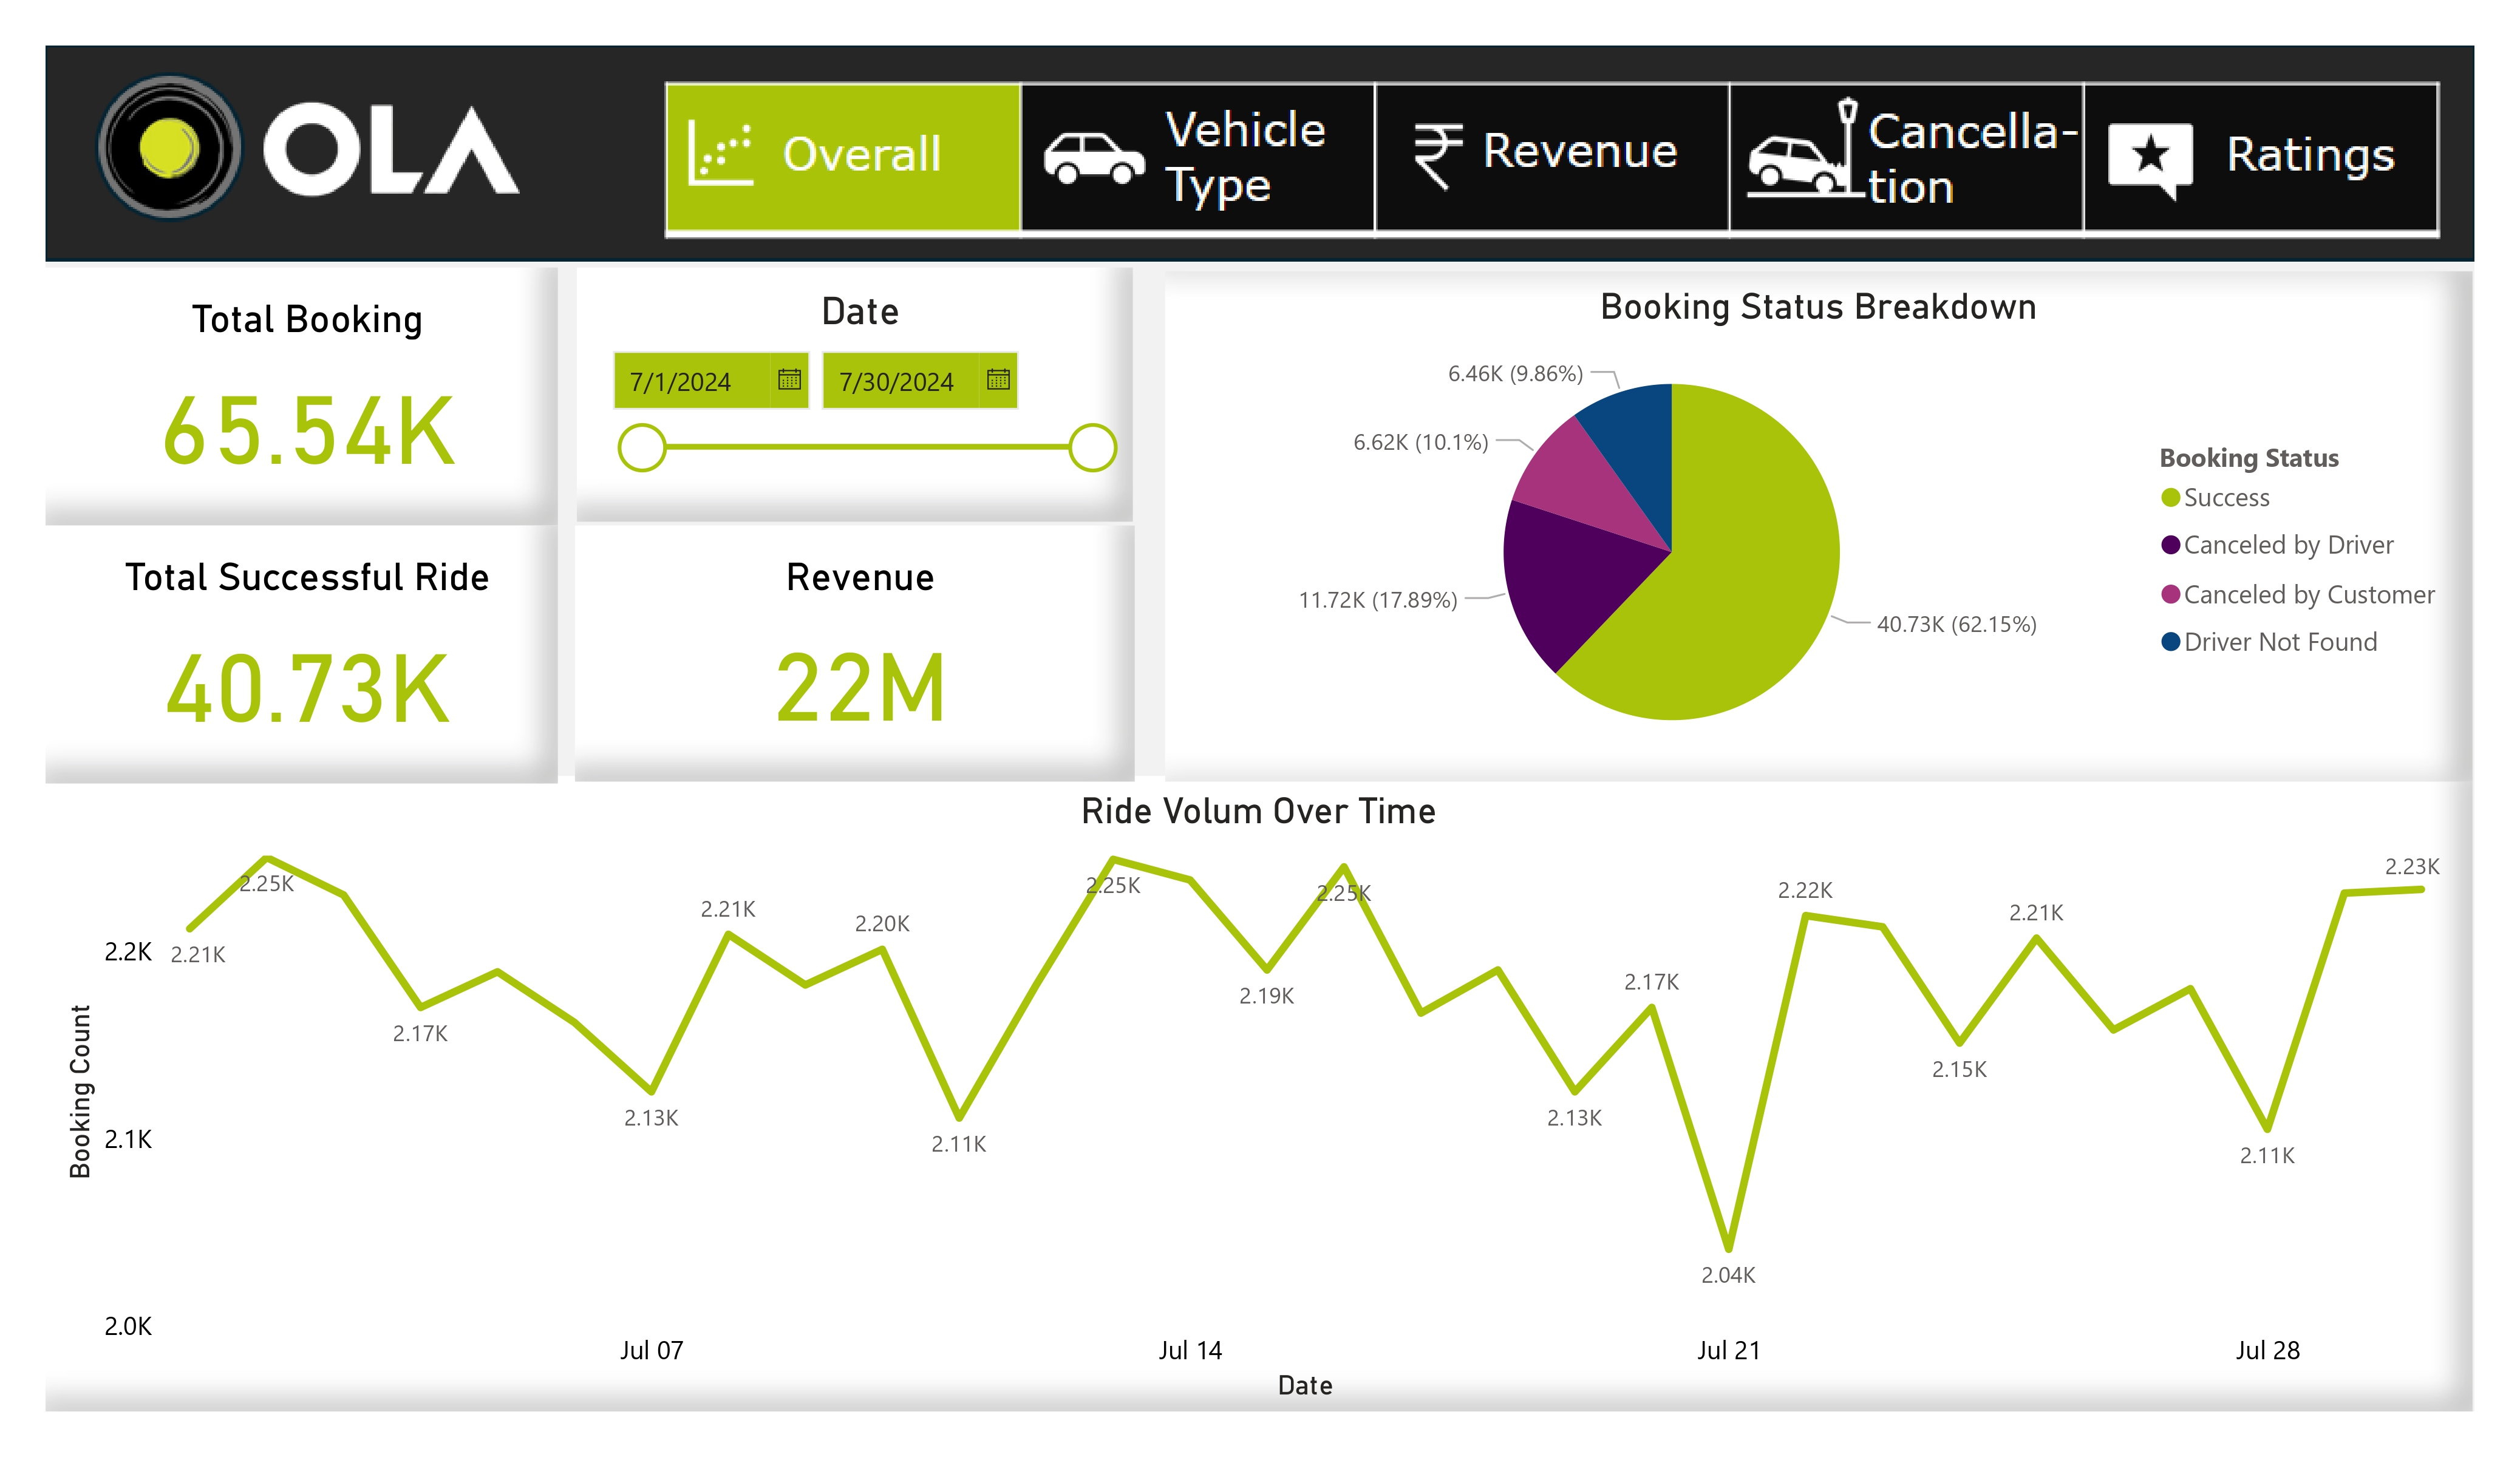

The dashboard page shown, as its layout file describes it:
{"tool":"powerbi","page":{"name":"Overall","canvas":[1280,720],"ordinal":0},"visuals":[{"type":"lineChart","title":"Ride Volum Over Time","fields":{"Y":["CountNonNull(July.Booking_ID)"],"Category":["July.Date"]},"box":[0,385.3,1279.4,335.3],"z":0},{"type":"pieChart","title":"Booking Status Breakdown","fields":{"Category":["July.Booking_Status"],"Y":["CountNonNull(July.Booking_ID)"]},"box":[589.7,119.1,689.7,269.1],"z":1000},{"type":"slicer","title":"Date","fields":{"Values":["July.Date"]},"box":[280,117.1,292.9,134.3],"z":2000},{"type":"actionButton","box":[518.3,26.7,178.3,66.7],"z":3000},{"type":"actionButton","box":[710,26.7,168.3,66.7],"z":4000},{"type":"actionButton","box":[895,26.7,178.3,66.7],"z":5000},{"type":"actionButton","box":[1085,26.7,168.3,66.7],"z":6000},{"type":"card","title":"Total Booking","fields":{"Values":["CountNonNull(July.Booking_ID)"]},"box":[0,117.1,270,135.7],"z":7000},{"type":"card","title":"Total Successful Ride","fields":{"Values":["CountNonNull(July.Booking_ID)"]},"box":[0,252.9,270,135.7],"z":7001},{"type":"card","title":"Revenue","fields":{"Values":["Sum(July.Booking_Value)"]},"box":[279.4,252.9,294.1,135.3],"z":7002}]}

Visuals, with their boxes in screenshot pixels (x1, y1, x2, y2):
"Ride Volum Over Time" lineChart: bbox(46, 776, 2473, 1411)
"Booking Status Breakdown" pieChart: bbox(1165, 271, 2473, 782)
"Date" slicer: bbox(577, 268, 1132, 523)
actionButton: bbox(1029, 96, 1367, 223)
actionButton: bbox(1393, 96, 1712, 223)
actionButton: bbox(1744, 96, 2082, 223)
actionButton: bbox(2105, 96, 2424, 223)
"Total Booking" card: bbox(46, 268, 558, 525)
"Total Successful Ride" card: bbox(46, 525, 558, 783)
"Revenue" card: bbox(576, 525, 1134, 782)
